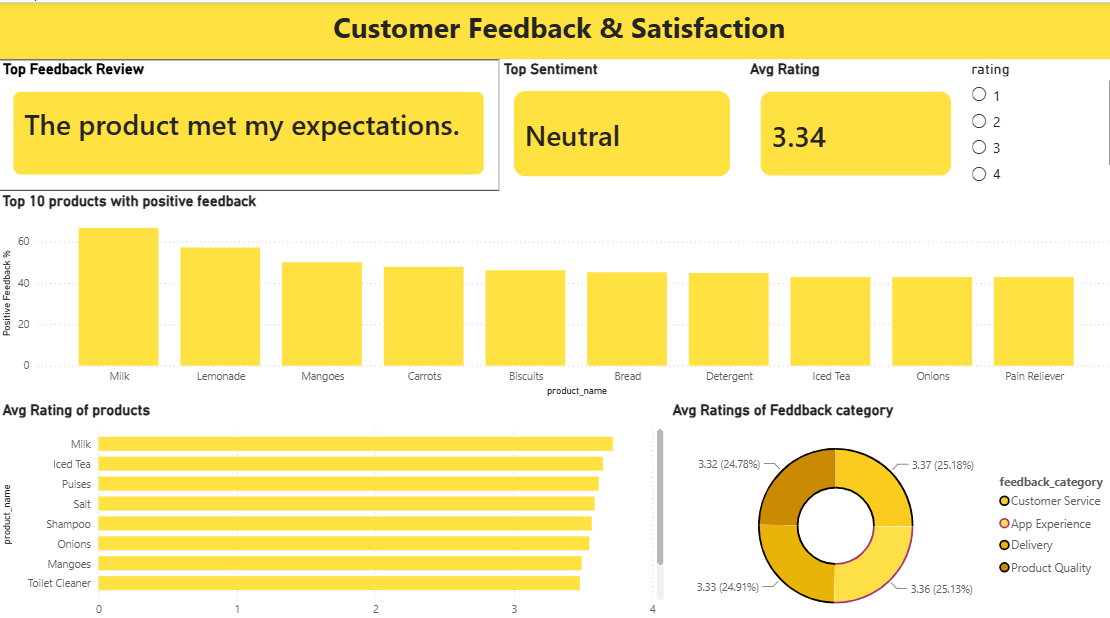

The page's visual inventory and layout, read from the dashboard file:
{"tool":"powerbi","page":{"name":"Customer Feedback & Satisfaction","canvas":[1280,720],"ordinal":2},"visuals":[{"type":"textbox","box":[0,0,1280.3,72],"z":0},{"type":"donutChart","title":"Count Of Ratings By Feedback Category","fields":{"Category":["customer_feedback.feedback_category"],"Y":["CountNonNull(customer_feedback.rating)"]},"box":[764.3,454.2,516,266.2],"z":1000},{"type":"barChart","title":"Avg Rating of products","fields":{"Category":["products.product_name"],"Y":["customer_feedback.Avg Rating"]},"box":[0,454.2,764.3,266.2],"z":2000},{"type":"columnChart","title":"Top 10 products with positive feedback","fields":{"Category":["products.product_name"],"Y":["customer_feedback.Positive Feedback %"]},"box":[0,216.7,1280,238],"z":3000},{"type":"cardVisual","title":"Avg Rating","fields":{"Data":["customer_feedback.Avg Rating"]},"box":[852.1,71.4,252.5,145.5],"z":4000},{"type":"cardVisual","title":"Top Feedback Review","fields":{"Data":["Min(customer_feedback.feedback_text)"]},"box":[0,71.4,572.2,144.1],"z":5000},{"type":"cardVisual","title":"Top Sentiment","fields":{"Data":["customer_feedback.Top Sentiment"]},"box":[572.2,71.4,279.9,144.1],"z":6000},{"type":"listSlicer","fields":{"Values":["customer_feedback.rating"]},"box":[1104.6,71.4,175.6,144.1],"z":7000}]}

Visuals, with their boxes in screenshot pixels (x1, y1, x2, y2), scaled from the page's 1280x720 canvas onto the 1110x618 screenshot:
textbox: <box>0,0,1109,62</box>
"Count Of Ratings By Feedback Category" donutChart: <box>663,390,1109,617</box>
"Avg Rating of products" barChart: <box>0,390,663,617</box>
"Top 10 products with positive feedback" columnChart: <box>0,186,1109,390</box>
"Avg Rating" cardVisual: <box>739,61,958,186</box>
"Top Feedback Review" cardVisual: <box>0,61,496,185</box>
"Top Sentiment" cardVisual: <box>496,61,739,185</box>
listSlicer - customer_feedback.rating: <box>958,61,1109,185</box>
